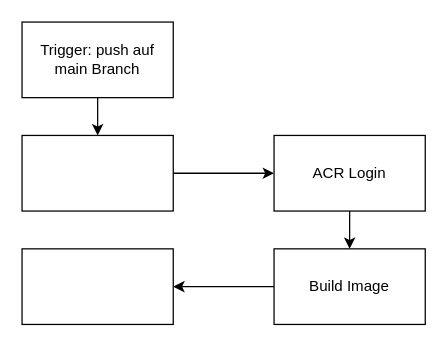
Some shapes in this 447 by 347 pixel diagram are drawn without their labels. Here are the shapes that lost their labels. From the top down, the box of each, then its label:
(21, 134, 173, 211): Azure Login
(21, 248, 173, 324): Push Image to ACR
